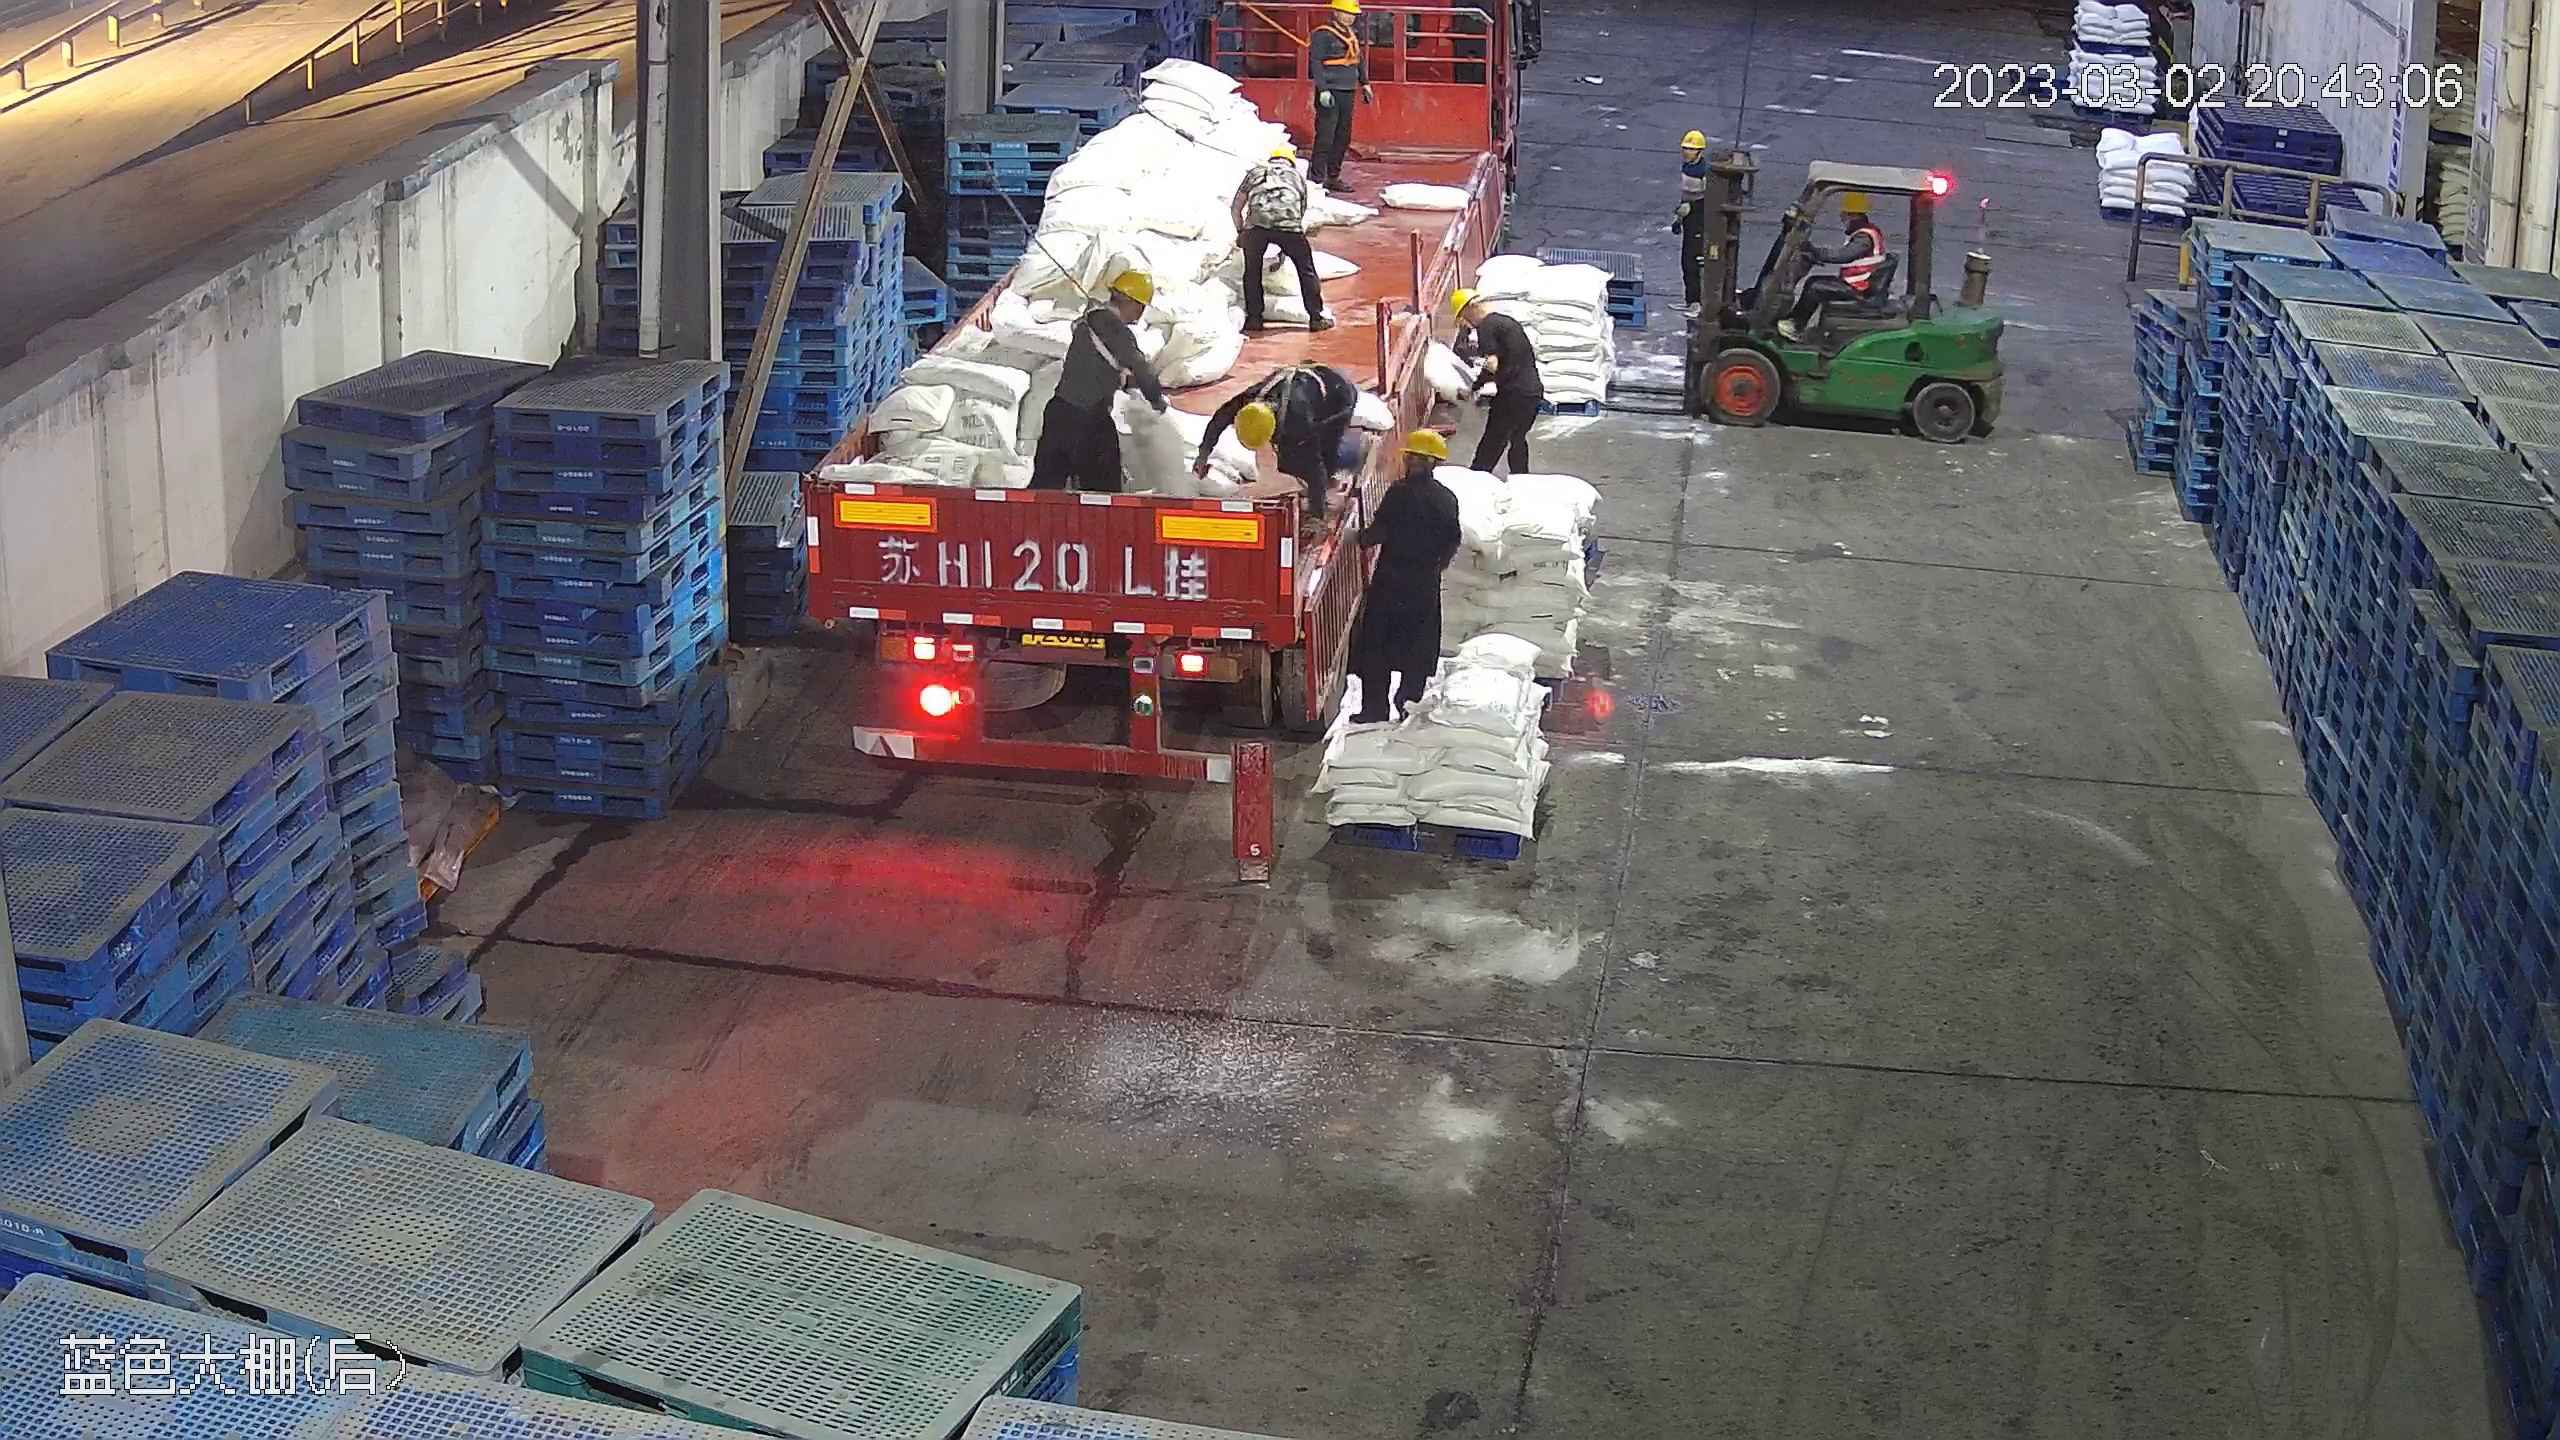belt: (1035, 259, 1174, 505), (1058, 308, 1135, 384), (1256, 355, 1327, 416), (1315, 20, 1363, 70), (1250, 156, 1300, 204)
head: (1372, 425, 1458, 519), (1067, 264, 1155, 354), (1220, 376, 1312, 449), (1441, 286, 1521, 355), (1244, 140, 1310, 198), (1096, 265, 1157, 318), (1835, 189, 1885, 254), (1307, 1, 1368, 50), (1676, 129, 1713, 178)
helmet: (1103, 264, 1157, 308), (1237, 399, 1278, 452), (1398, 425, 1450, 465), (1446, 287, 1476, 322), (1839, 190, 1871, 214), (1267, 146, 1298, 167), (1681, 127, 1706, 148), (1325, 1, 1357, 15)
people: (1333, 421, 1458, 735), (1030, 265, 1174, 506), (1188, 366, 1366, 529), (1434, 286, 1546, 482), (1228, 138, 1330, 335), (1785, 189, 1887, 334), (1301, 2, 1375, 192), (1668, 133, 1717, 311)
truck: (799, 19, 1502, 790)
